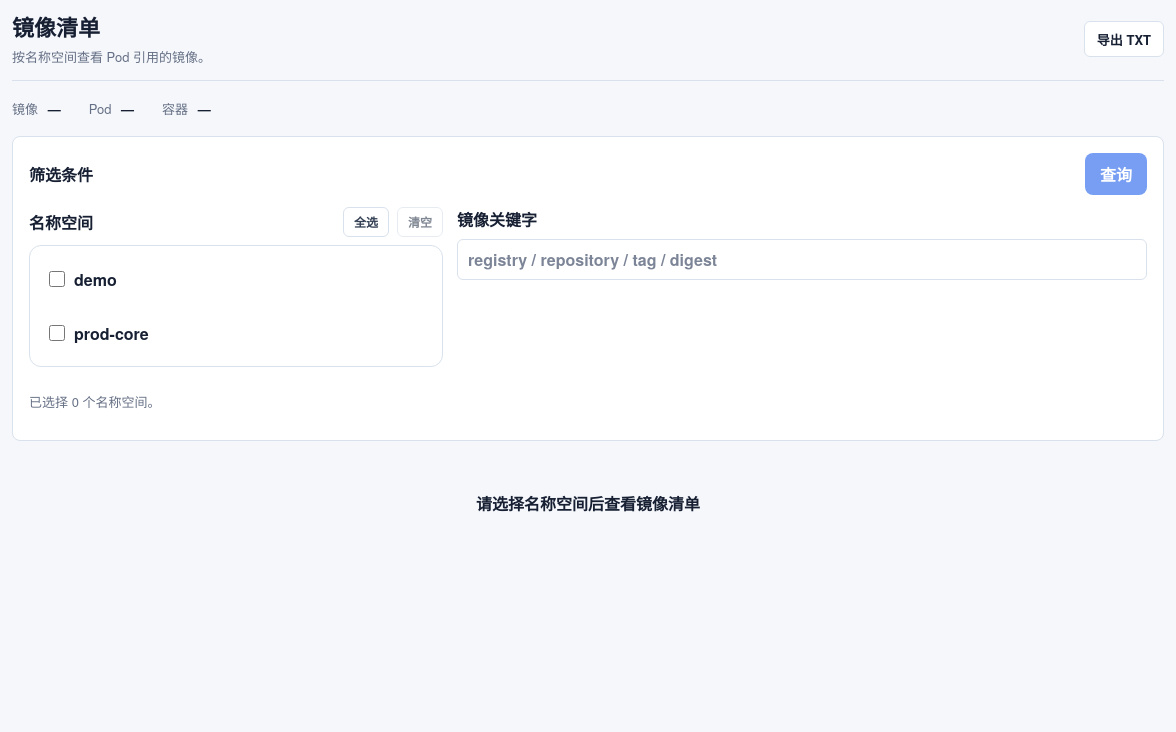
Test: ImageInventoryPage › exports current filter as txt
Click the checkbox labelled "demo".
click(57, 279)  # box [49, 271, 65, 287]
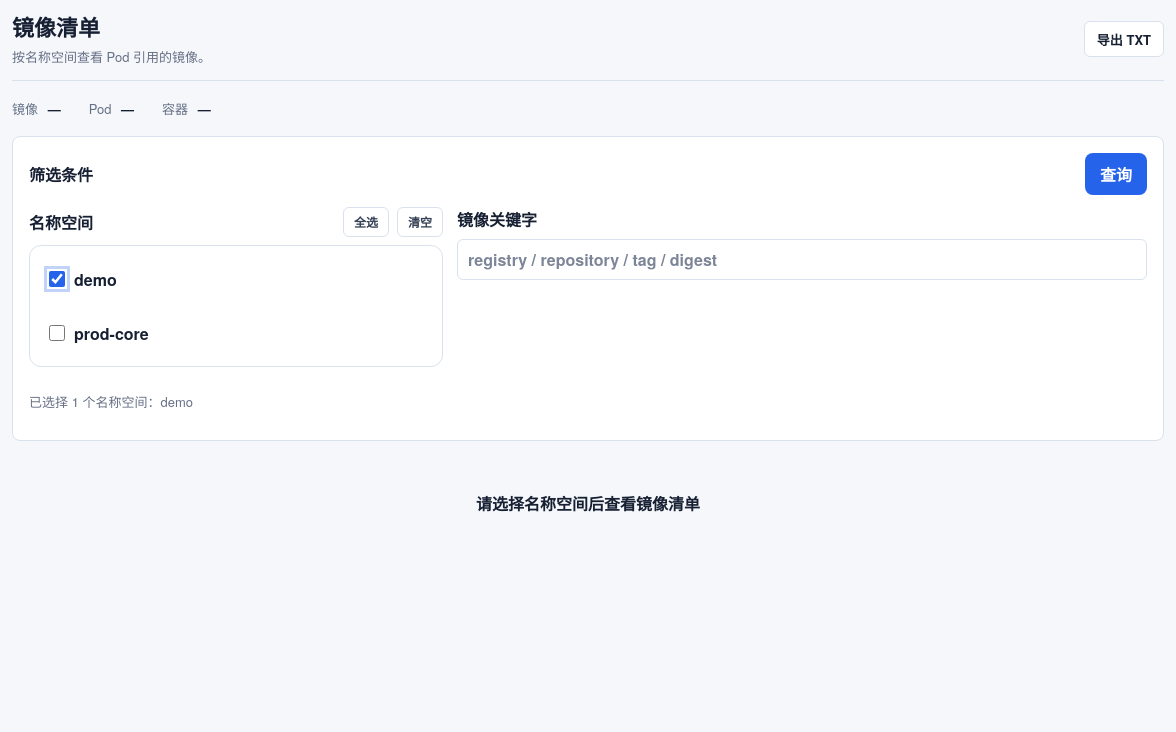
Type "api" into the field named "搜索镜像关键字".
click(802, 260); type("api")  # box [457, 239, 1147, 280]
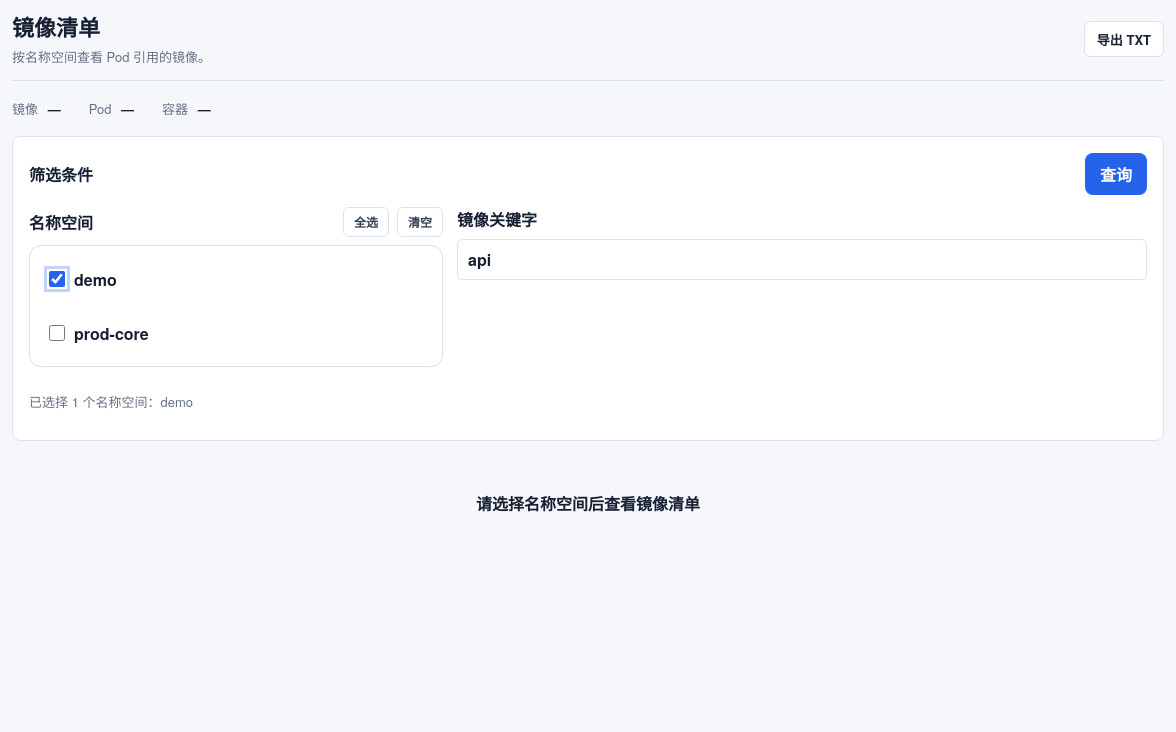
Click the button "导出 TXT".
click(1124, 39)  # box [1084, 21, 1164, 57]
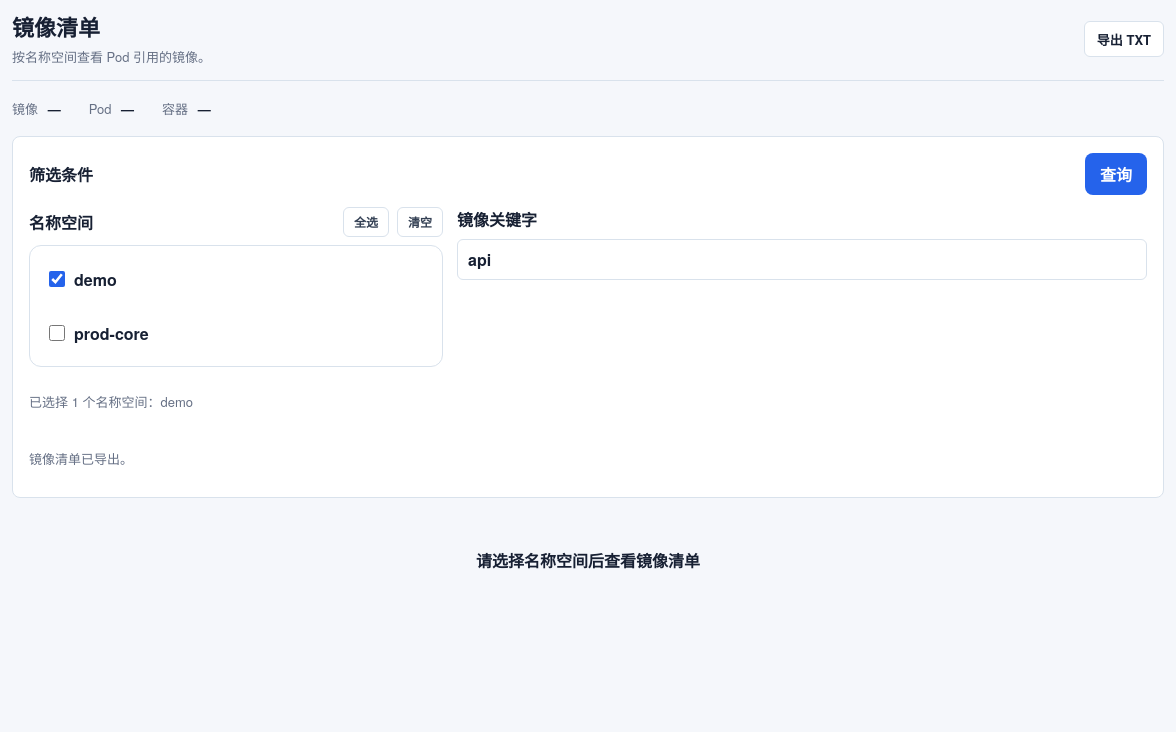
Expected: the text "镜像清单已导出。" is shown, [29, 449, 133, 468]
